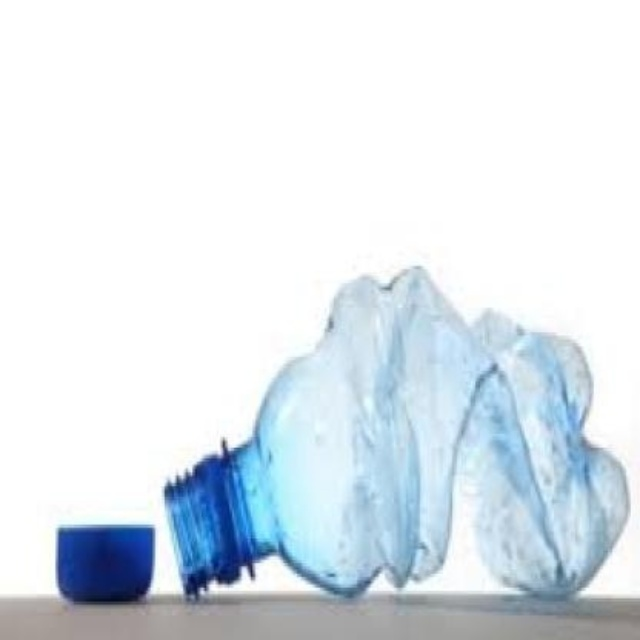trash: (165, 266, 628, 594), (57, 526, 152, 600)
